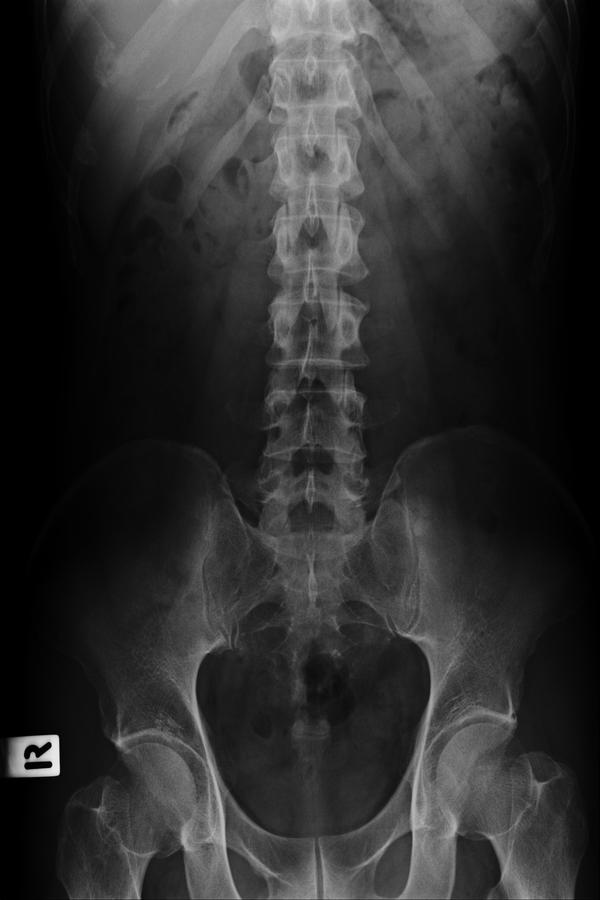not lumbar scoliosis: (257, 182, 379, 558)
